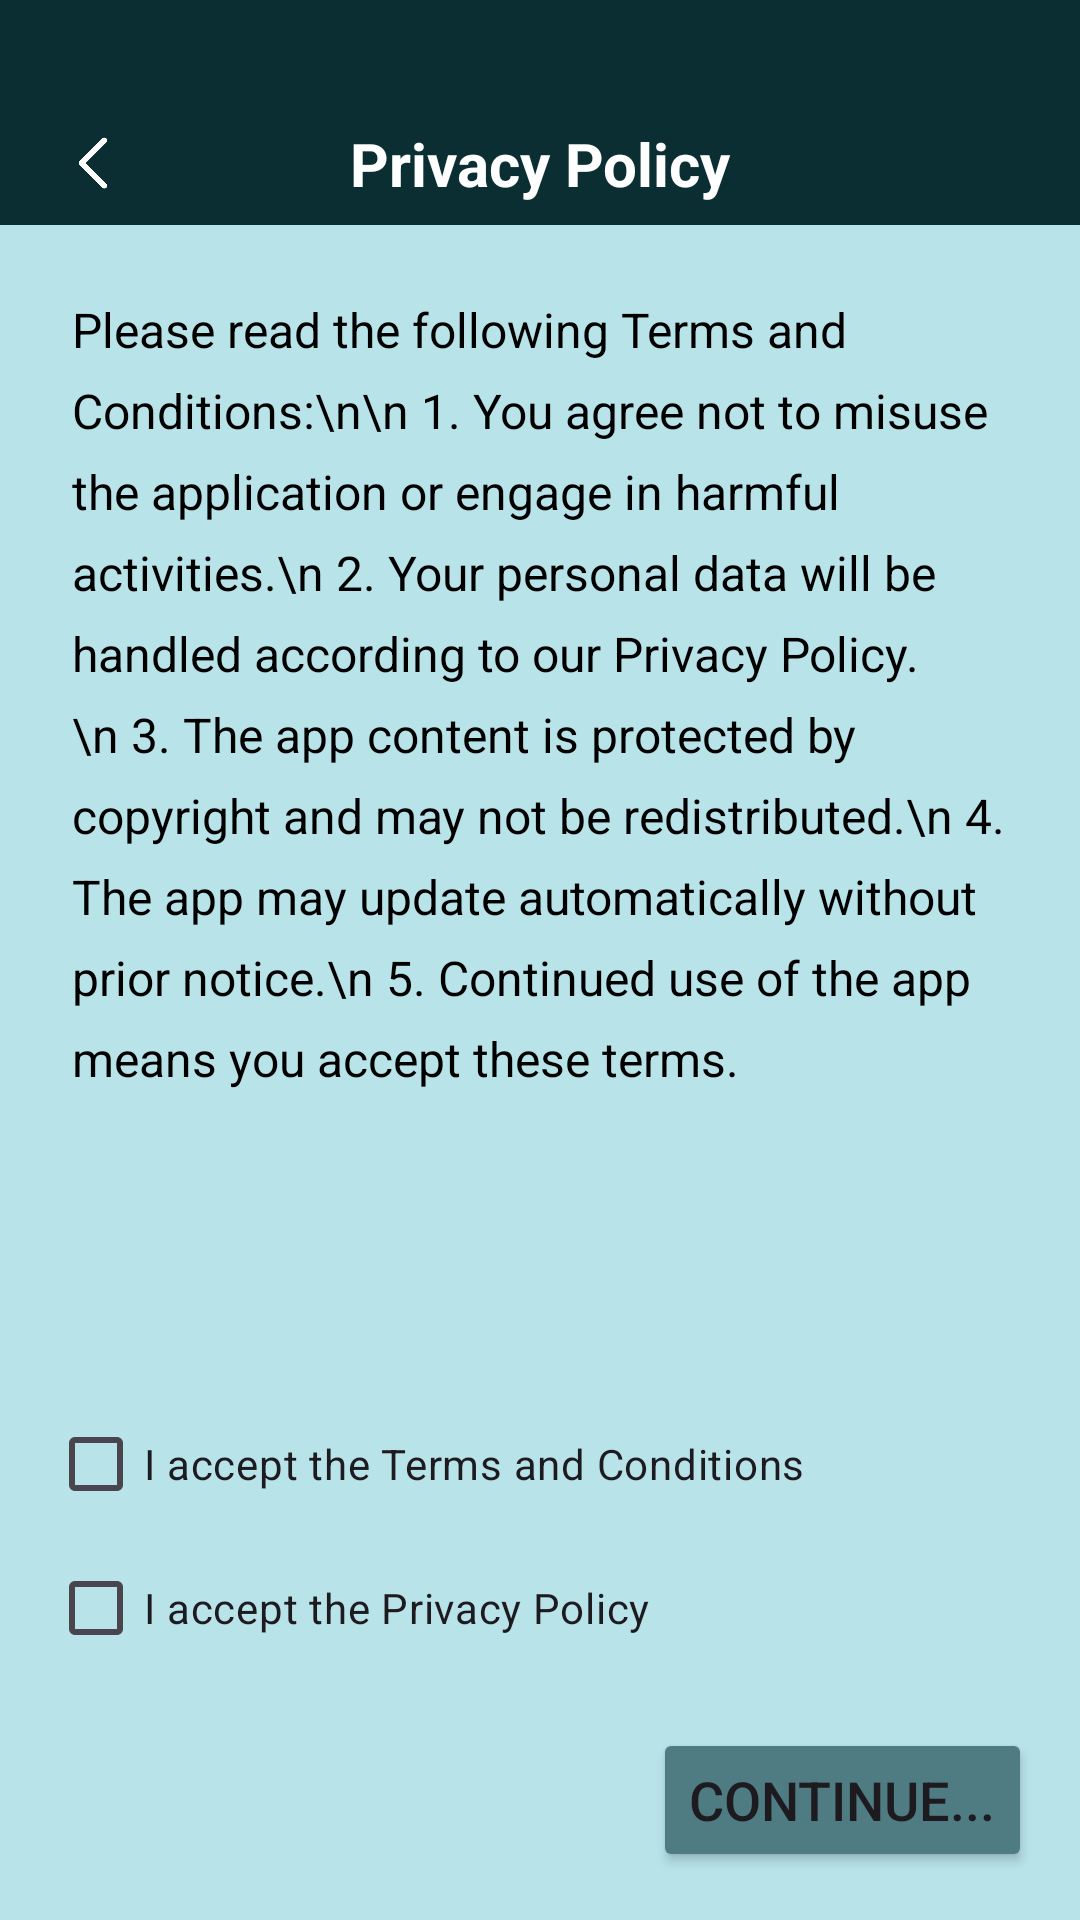

Named icons in this screenshot (1080x1920) and their centers, [x,y]:
Back: [93,163]
